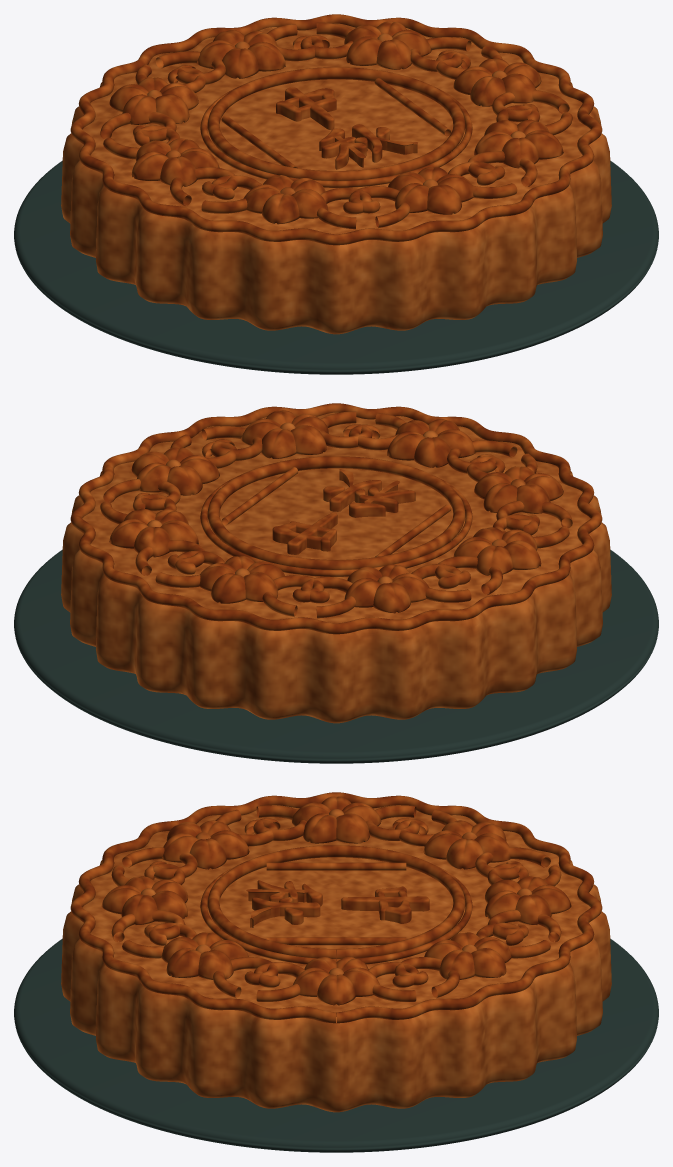
File: 中秋月餅_GLTF貼圖版.glb
The picture shows the model from 3 angles, top to bottom: view 1: azimuth 30°, elevation 25°; view 2: azimuth 150°, elevation 25°; view 3: azimuth 270°, elevation 25°; orthographic projection.
Visible parts, largest first — view 1: Mooncake_Baked, 陶瓷盤; view 2: Mooncake_Baked, 陶瓷盤; view 3: Mooncake_Baked, 陶瓷盤.
Boxes of the visible parts, <box> form: Mooncake_Baked: <box>61,14,611,334</box>; 陶瓷盤: <box>14,160,658,374</box>; Mooncake_Baked: <box>61,403,611,723</box>; 陶瓷盤: <box>14,549,658,763</box>; Mooncake_Baked: <box>61,792,611,1112</box>; 陶瓷盤: <box>14,938,658,1152</box>.
Size of what is drawn, in the model's own units: 7.3 by 1.63 by 7.3.
Materials: 2 (1 with a texture image).
